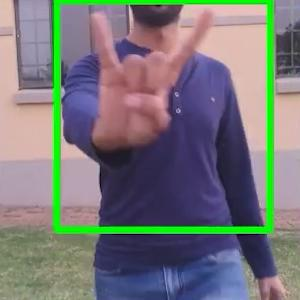takeoff-hand: (77, 0, 214, 155)
